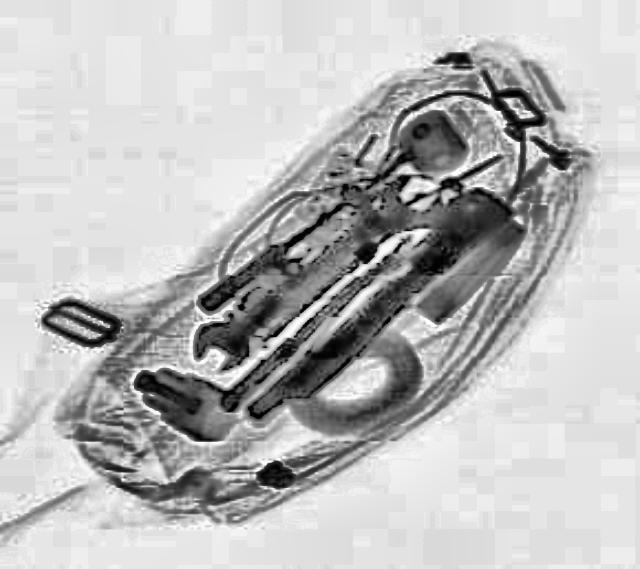Wrench: (175, 160, 457, 378)
